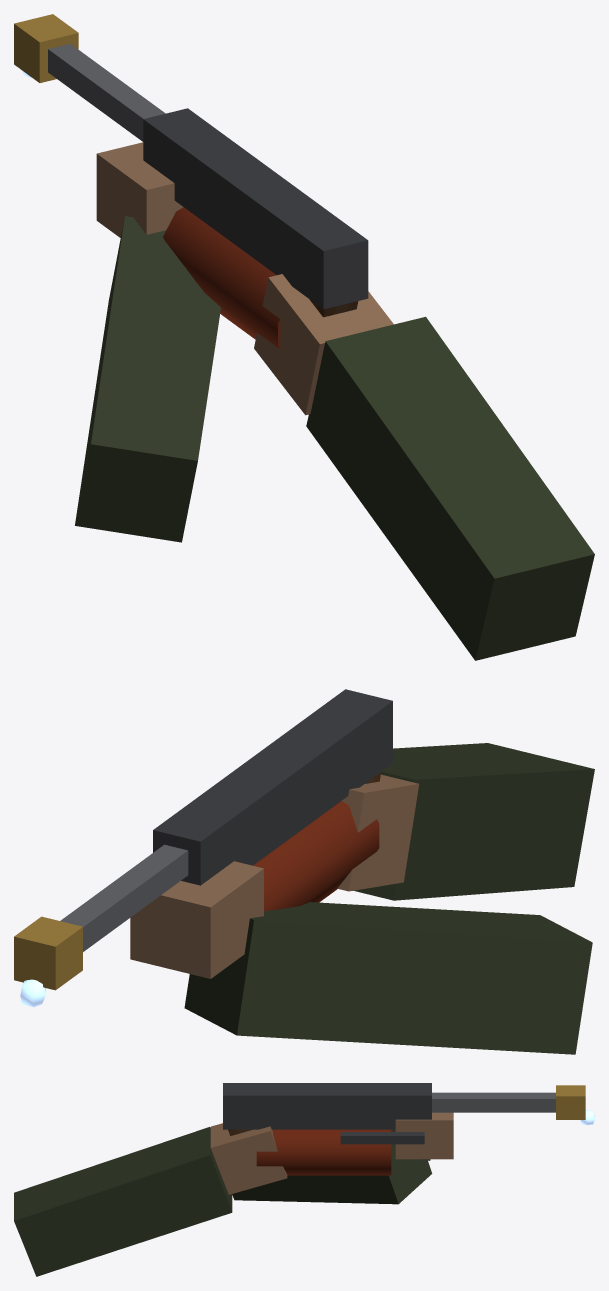
Rendered from flamer.glb.
3 renders of one model, top to bottom at view 1: azimuth 30°, elevation 25°; view 2: azimuth 150°, elevation 25°; view 3: azimuth 270°, elevation 25°, orthographic. The views are drawn at different scales.
Visible parts, largest first — view 1: flamer_7, flamer_0, flamer_6, flamer_3, flamer_1, flamer_2; view 2: flamer_7, flamer_0, flamer_6, flamer_3, flamer_1, flamer_2, flamer_5; view 3: flamer_7, flamer_0, flamer_6, flamer_3, flamer_1, flamer_2.
Part boxes in pixels (<box>): flamer_7: <box>75,216,594,660</box>; flamer_0: <box>143,108,368,309</box>; flamer_6: <box>96,142,393,415</box>; flamer_3: <box>163,207,280,348</box>; flamer_1: <box>48,43,165,141</box>; flamer_2: <box>14,14,78,82</box>; flamer_7: <box>184,743,594,1054</box>; flamer_0: <box>153,689,392,885</box>; flamer_6: <box>130,774,419,978</box>; flamer_3: <box>253,801,379,911</box>; flamer_1: <box>60,844,188,951</box>; flamer_2: <box>14,916,82,990</box>; flamer_5: <box>20,979,45,1006</box>; flamer_7: <box>14,1127,432,1276</box>; flamer_0: <box>223,1083,431,1160</box>; flamer_6: <box>210,1112,453,1194</box>; flamer_3: <box>256,1129,391,1175</box>; flamer_1: <box>432,1092,555,1112</box>; flamer_2: <box>556,1085,585,1119</box>.
Bounding box in the file's own units: 0.4821 × 0.4434 × 1.39.
Materials: 8 (1 with a texture image).
